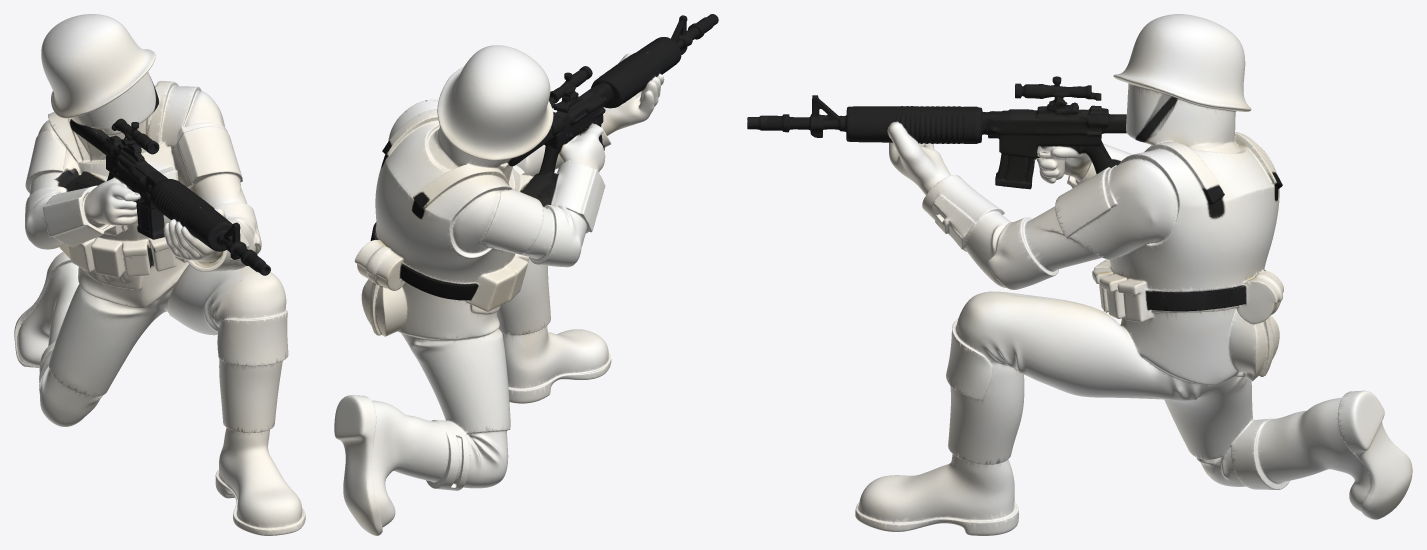
Rendered from Meshy_AI_a_stylized_low_poly_t_0318165451_texture.fbx.
The picture shows the model from 3 angles, left to right: view 1: azimuth 30°, elevation 25°; view 2: azimuth 150°, elevation 25°; view 3: azimuth 270°, elevation 25°; orthographic projection. The views are drawn at different scales.
Visible parts, largest first — view 1: Mesh_0; view 2: Mesh_0; view 3: Mesh_0.
Boxes of the visible parts, x1,y1,x2,y2 form: Mesh_0: [14, 14, 305, 535]; Mesh_0: [334, 14, 718, 535]; Mesh_0: [747, 14, 1412, 535].
Size of the model in its own units: 70.26 by 149 by 190.
Materials: 1 (1 with a texture image).
